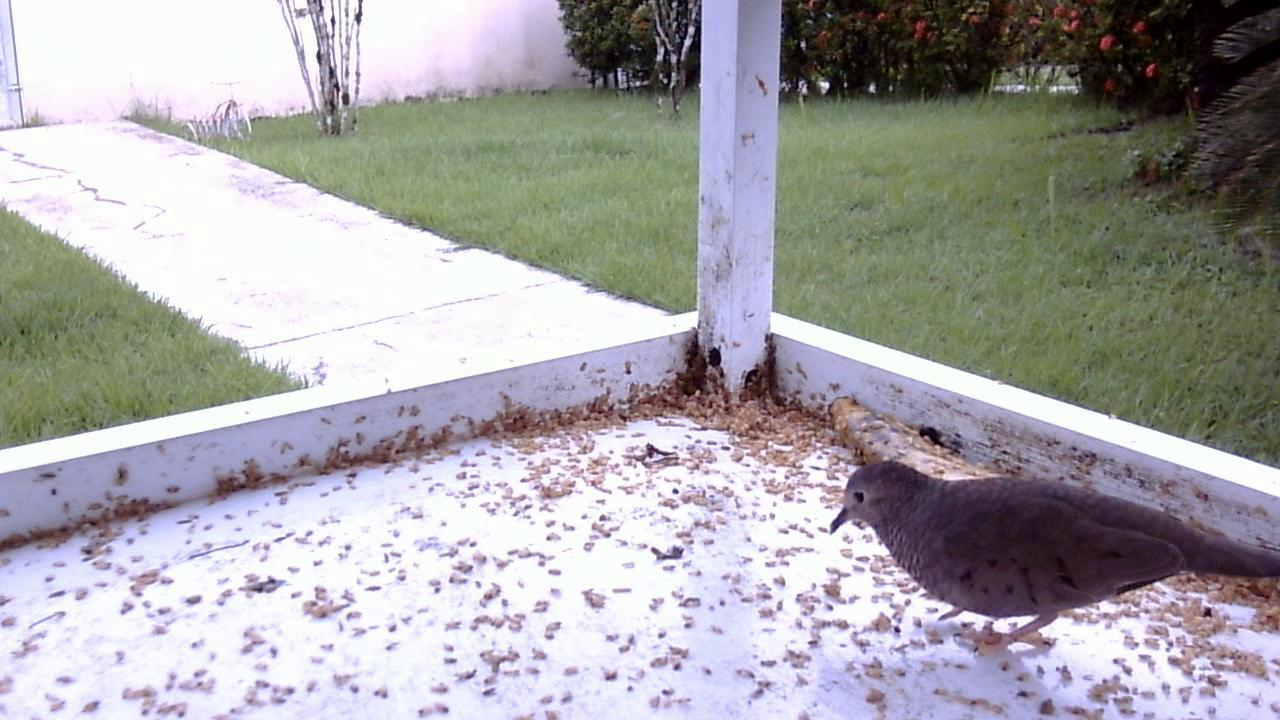rolinha: (819, 441, 1273, 668)
